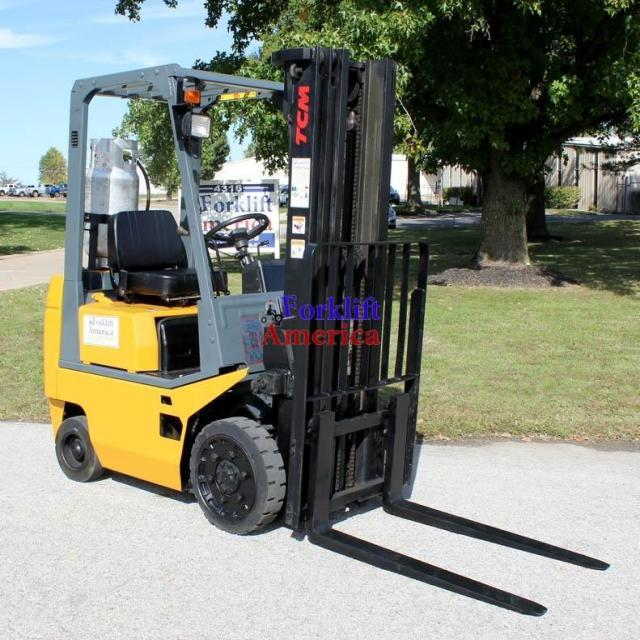forklift: (37, 35, 444, 553)
